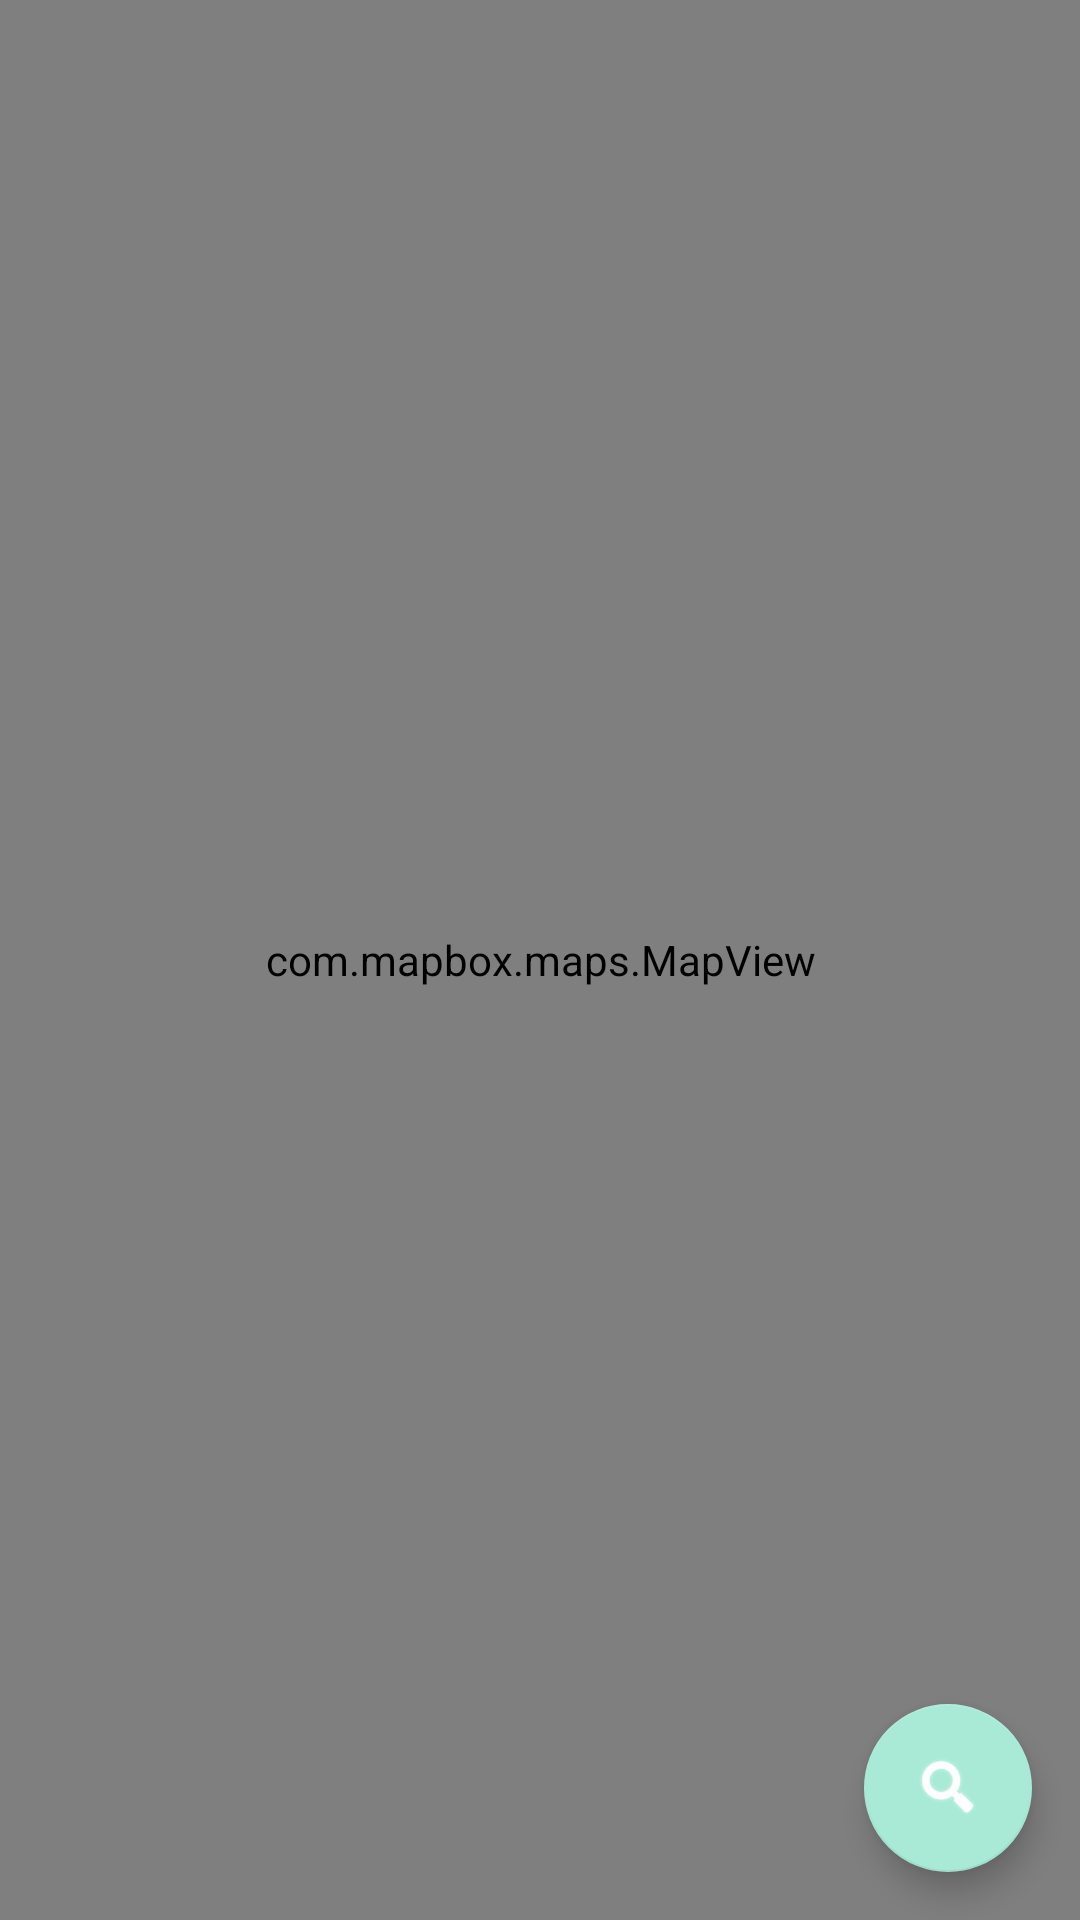

Icon bounding boxes for this 1080*1920 phone screenshot, format (x1, y1, x2, y2):
search category: (864, 1704, 1032, 1872)
